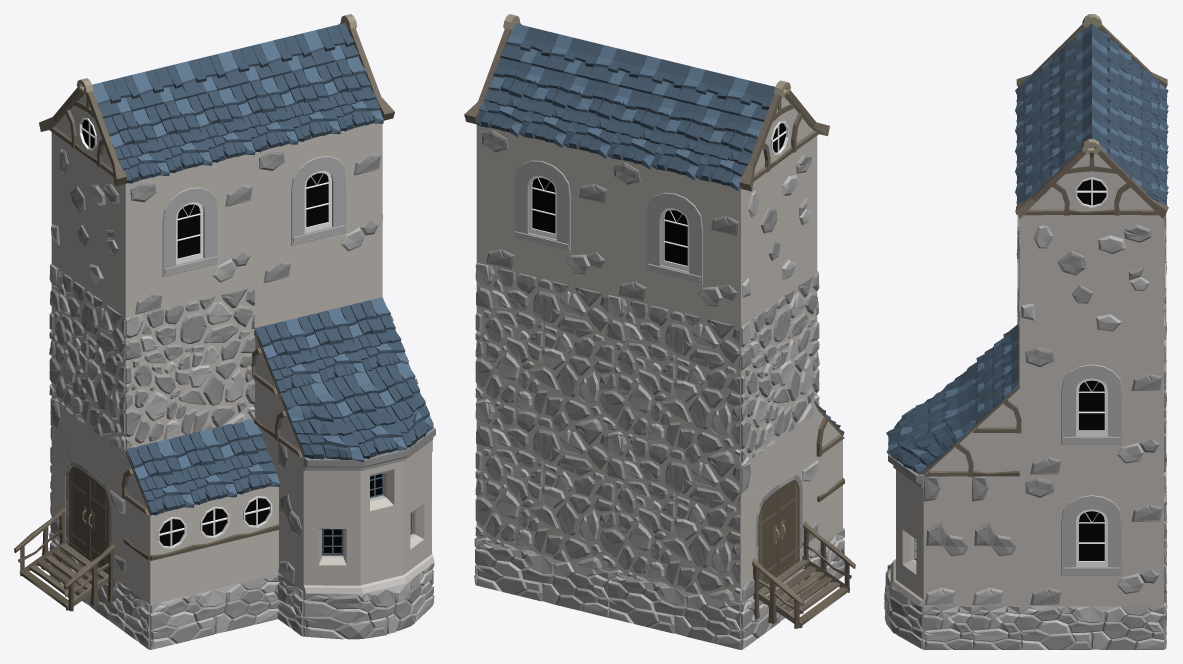
The model's file is house_12.fbx.
3 renders of one model, left to right at view 1: azimuth 30°, elevation 25°; view 2: azimuth 150°, elevation 25°; view 3: azimuth 270°, elevation 25°, orthographic. The views are drawn at different scales.
Parts seen in each view (by area): view 1: BALKON_04_3, WINDOW_07_8, WINDOW_07_9, WALL_02_9, ROOF_base_round_2, WALL_02_8, WALL_06_2, DOOR_01_2, FOUNDATION_02_1, FOUNDATION_01_4, STAIRS_01_2, WALL_03_2 (+40 smaller); view 2: WALL_02_10, WALL_02_11, WALL_02_13, WALL_02_12, WINDOW_07_13, WINDOW_07_12, WALL_02_8, WALL_06_2, DOOR_01_2, FOUNDATION_01_7, FOUNDATION_01_6, STAIRS_01_2 (+21 smaller); view 3: WINDOW_07_11, WALL_06_3, WINDOW_07_14, WALL_03_3, WALL_03_4, FOUNDATION_01_5, ROOF_base_round_2, BALKON_04_3, FOUNDATION_03_4, FOUNDATION_03_5, ROOF_TRIANGLE_WOOD_2, ROOF_TRIANGLE_WINDOW_ROUND_5 (+37 smaller).
Part boxes in pixels (bbox=[...]): BALKON_04_3: bbox=[303, 427, 435, 593]; WINDOW_07_8: bbox=[125, 154, 253, 317]; WINDOW_07_9: bbox=[254, 123, 382, 286]; WALL_02_9: bbox=[125, 287, 255, 451]; ROOF_base_round_2: bbox=[278, 363, 433, 461]; WALL_02_8: bbox=[49, 264, 125, 452]; WALL_06_2: bbox=[51, 132, 128, 317]; DOOR_01_2: bbox=[50, 399, 125, 586]; FOUNDATION_02_1: bbox=[303, 564, 433, 639]; FOUNDATION_01_4: bbox=[150, 574, 279, 649]; STAIRS_01_2: bbox=[14, 507, 114, 611]; WALL_03_2: bbox=[278, 441, 303, 591]; WALL_02_10: bbox=[475, 263, 608, 433]; WALL_02_11: bbox=[607, 295, 740, 464]; WALL_02_13: bbox=[607, 433, 741, 603]; WALL_02_12: bbox=[475, 401, 608, 571]; WINDOW_07_13: bbox=[476, 124, 608, 294]; WINDOW_07_12: bbox=[609, 156, 740, 326]; WALL_02_8: bbox=[738, 271, 819, 465]; WALL_06_2: bbox=[738, 136, 817, 326]; DOOR_01_2: bbox=[739, 410, 818, 603]; FOUNDATION_01_7: bbox=[607, 572, 742, 649]; FOUNDATION_01_6: bbox=[475, 539, 609, 617]; STAIRS_01_2: bbox=[752, 521, 855, 628]; WINDOW_07_11: bbox=[1019, 475, 1163, 606]; WALL_06_3: bbox=[1019, 215, 1163, 344]; WINDOW_07_14: bbox=[1019, 345, 1163, 475]; WALL_03_3: bbox=[971, 476, 1019, 606]; WALL_03_4: bbox=[923, 475, 971, 606]; FOUNDATION_01_5: bbox=[1019, 606, 1163, 649]; ROOF_base_round_2: bbox=[886, 370, 971, 475]; BALKON_04_3: bbox=[888, 436, 940, 606]; FOUNDATION_03_4: bbox=[971, 606, 1019, 649]; FOUNDATION_03_5: bbox=[923, 606, 971, 649]; ROOF_TRIANGLE_WOOD_2: bbox=[971, 432, 1019, 476]; ROOF_TRIANGLE_WINDOW_ROUND_5: bbox=[1068, 171, 1115, 214].
Bounding box in the file's own units: 738 × 1173 × 593.
